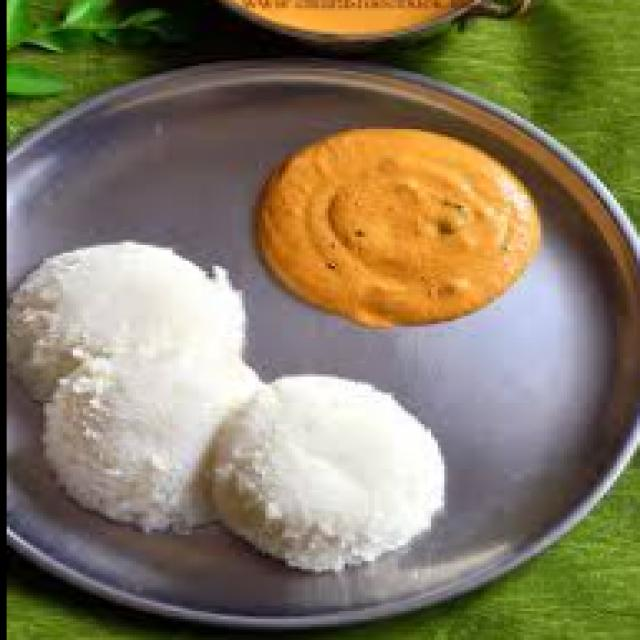peanut chutney: (305, 114, 547, 357)
